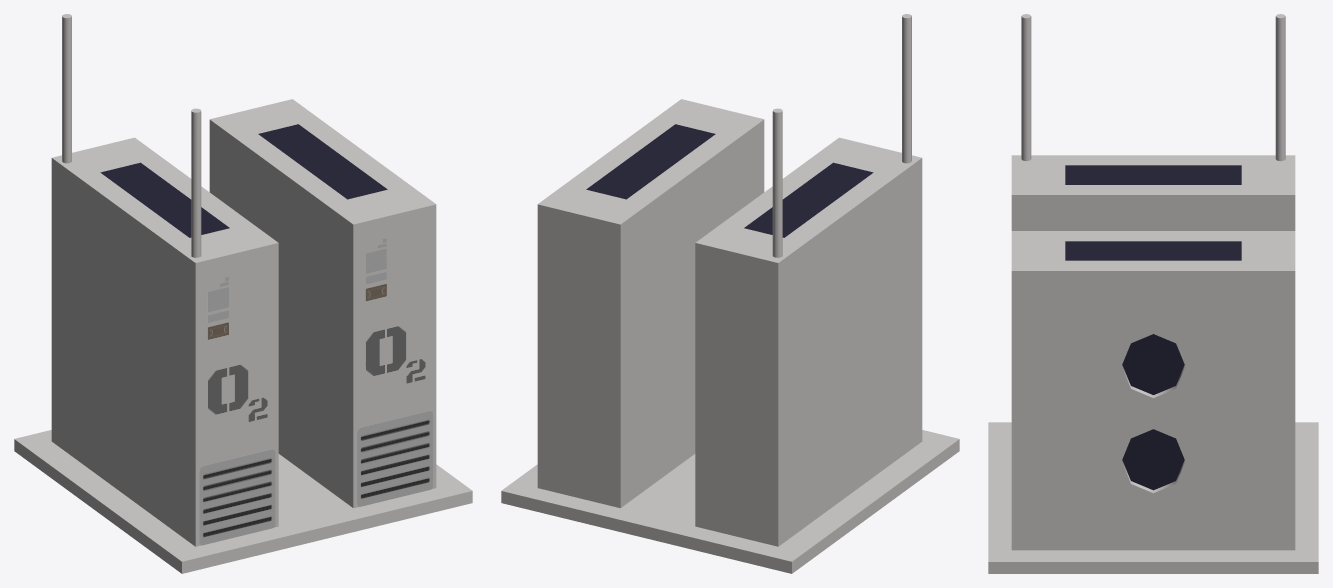
The model's file is o2blocks.fbx.
3 renders of one model, left to right at view 1: azimuth 30°, elevation 25°; view 2: azimuth 150°, elevation 25°; view 3: azimuth 270°, elevation 25°, orthographic.
Parts seen in each view (by area): view 1: o2blocks; view 2: o2blocks; view 3: o2blocks.
Part boxes in pixels (x1,y1,x2,y2): o2blocks: (14,14,472,573); o2blocks: (501,14,959,573); o2blocks: (988,14,1318,573).
Bounding box in the file's own units: 2.76 × 4 × 2.76.
